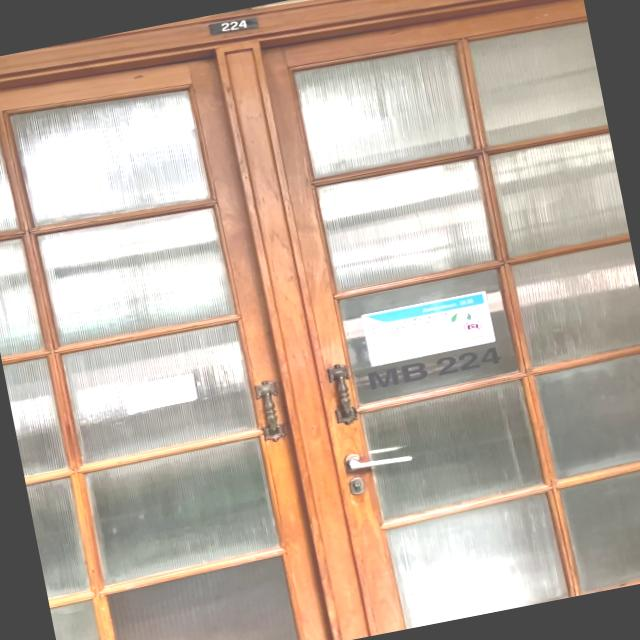room224: (205, 12, 261, 38)
room224Window: (363, 345, 506, 394)
